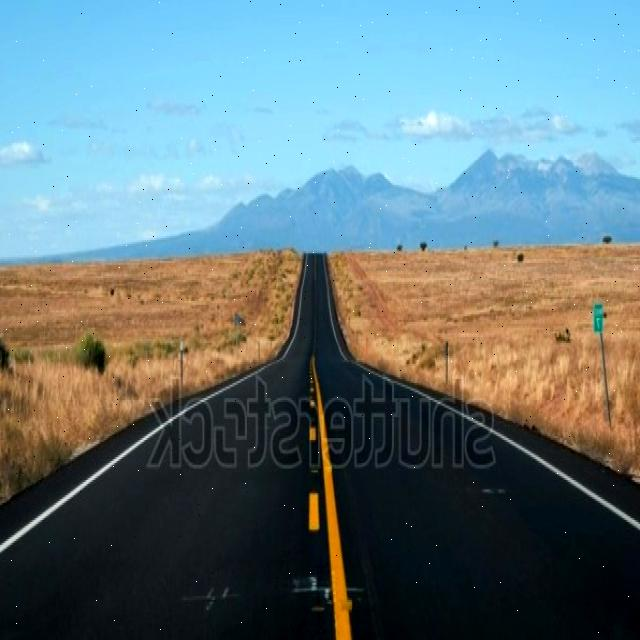lane: (312, 356, 352, 638), (309, 491, 320, 530)
